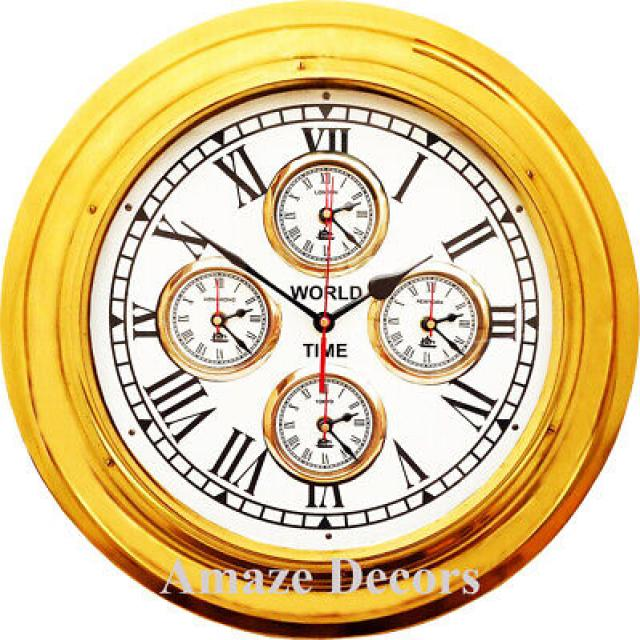clock: (0, 0, 640, 640), (16, 32, 594, 640), (594, 636, 640, 640)
